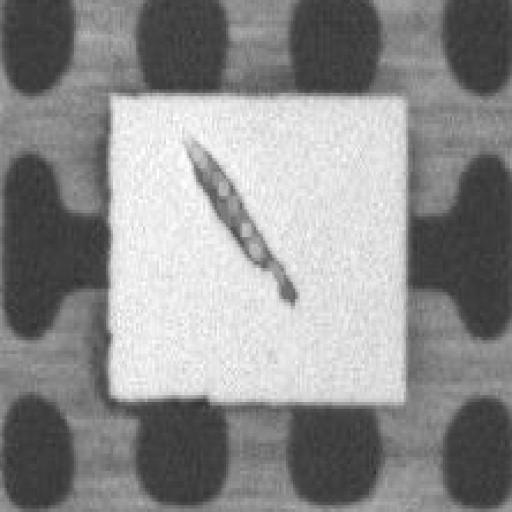DIE_INK: (254, 81, 460, 219)
